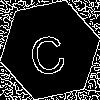C: (25, 25, 69, 78)
